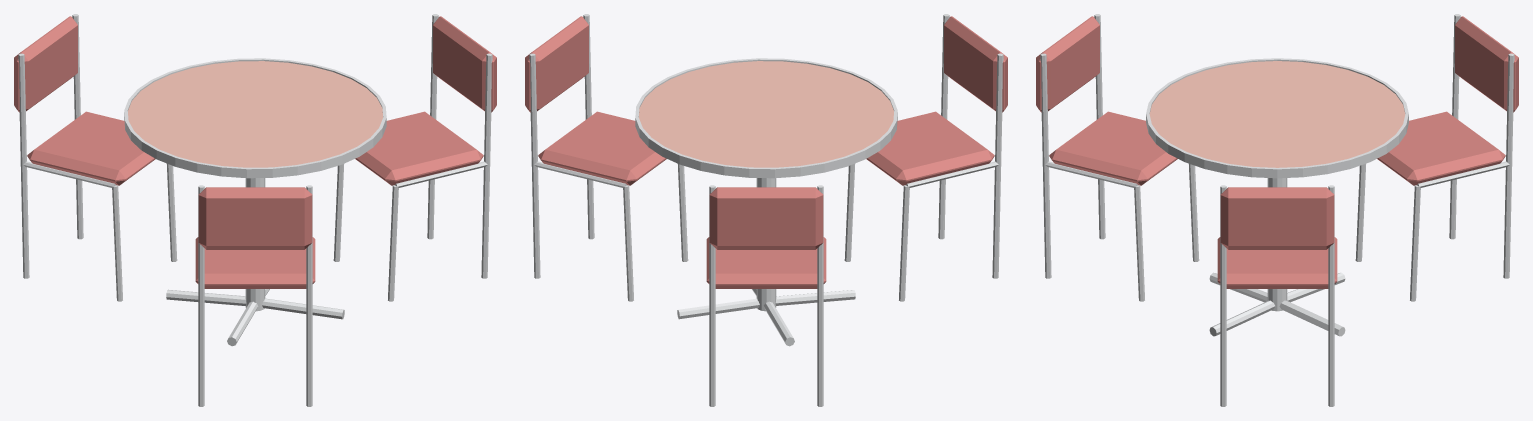
Rendered from dinette.glb.
3 renders of one model, left to right at view 1: azimuth 30°, elevation 25°; view 2: azimuth 150°, elevation 25°; view 3: azimuth 270°, elevation 25°, orthographic.
Visible parts, largest first — view 1: dinette_vinyl_r, dinette_formica, dinette_chrome; view 2: dinette_vinyl_r, dinette_formica, dinette_chrome; view 3: dinette_vinyl_r, dinette_formica, dinette_chrome.
Boxes of the visible parts, x1,y1,x2,y2 form: dinette_vinyl_r: (14,16,496,288); dinette_formica: (128,61,382,167); dinette_chrome: (18,14,492,406); dinette_vinyl_r: (525,16,1007,288); dinette_formica: (639,61,893,167); dinette_chrome: (529,14,1003,406); dinette_vinyl_r: (1036,16,1518,288); dinette_formica: (1149,61,1405,167); dinette_chrome: (1040,14,1514,406).
Size of the model in its own units: 1.48 by 0.8682 by 1.7.
